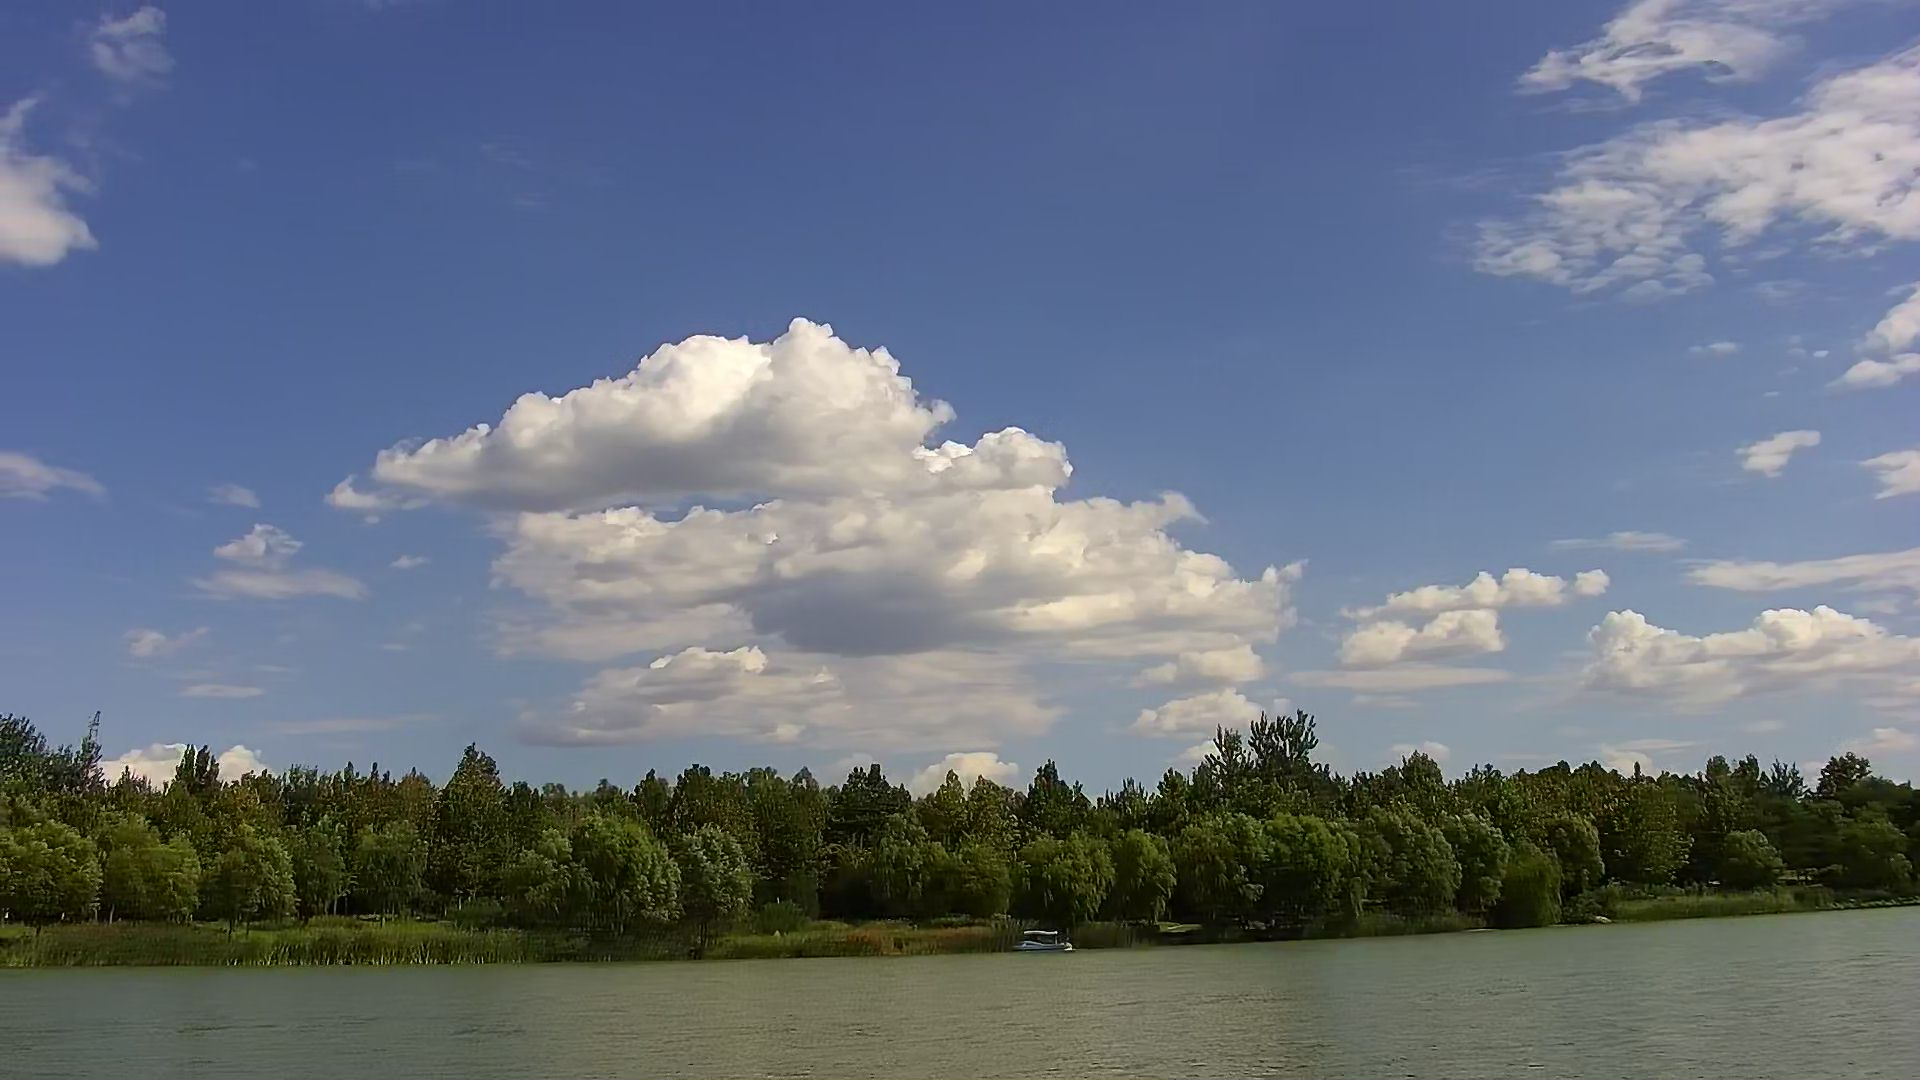boat: (1007, 926, 1076, 956)
